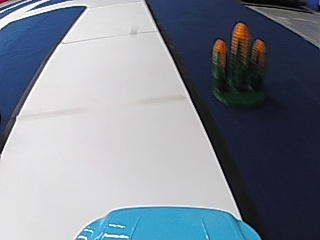corn: (210, 19, 269, 111)
